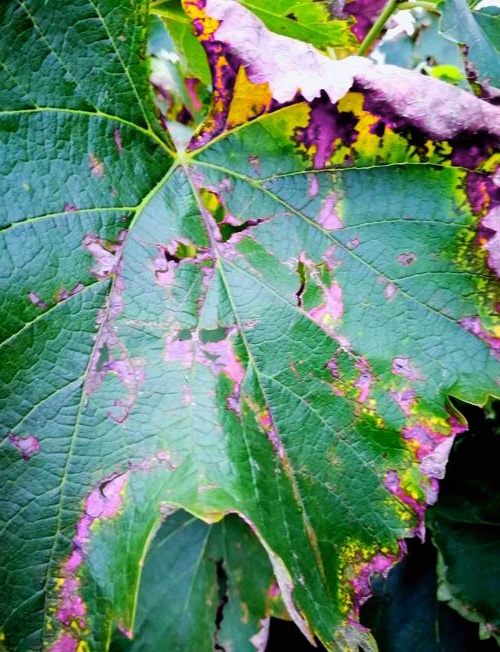Frost_Blight: (39, 3, 491, 624)
